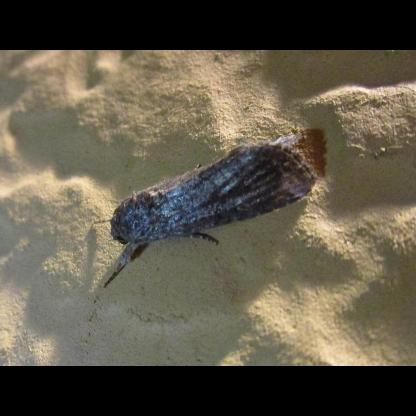Fall Armyworm Moth: (92, 132, 320, 290)
